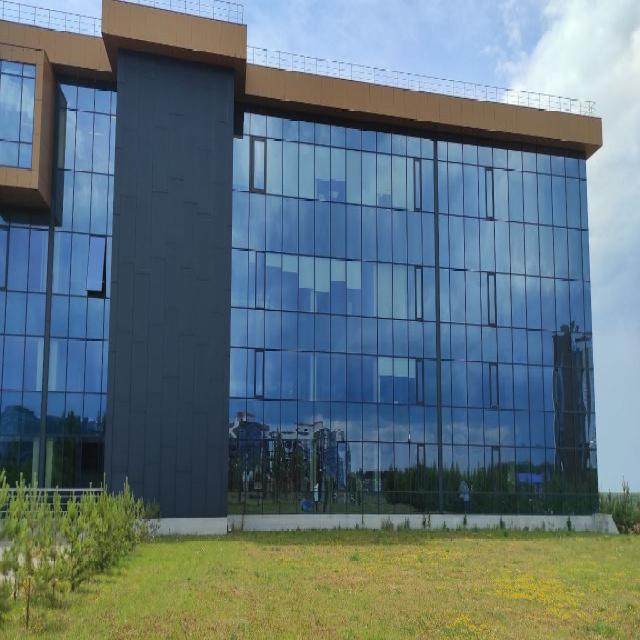Building: (0, 0, 620, 537)
